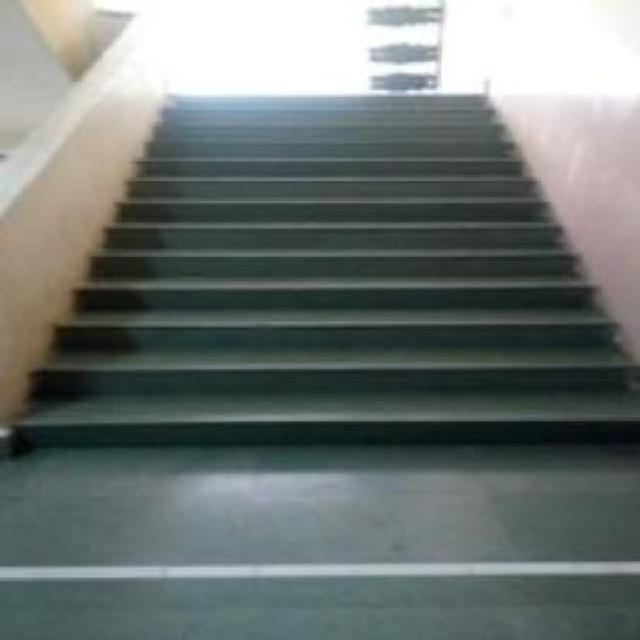stair: (12, 80, 640, 477)
